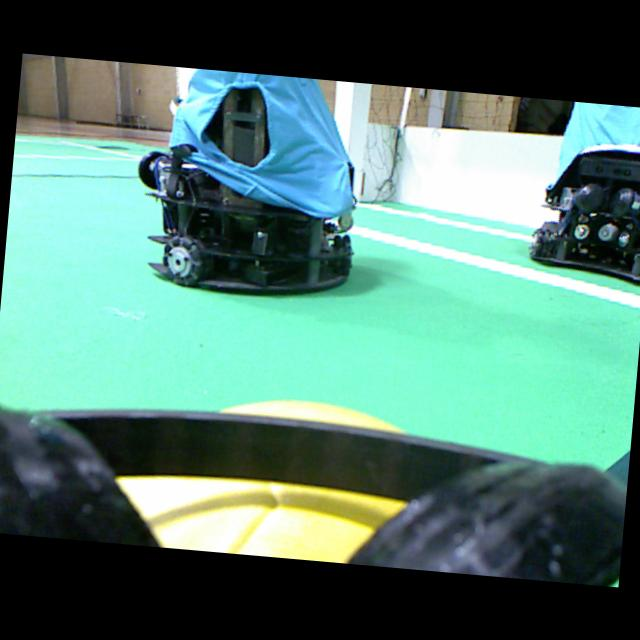ball: (117, 399, 455, 563)
